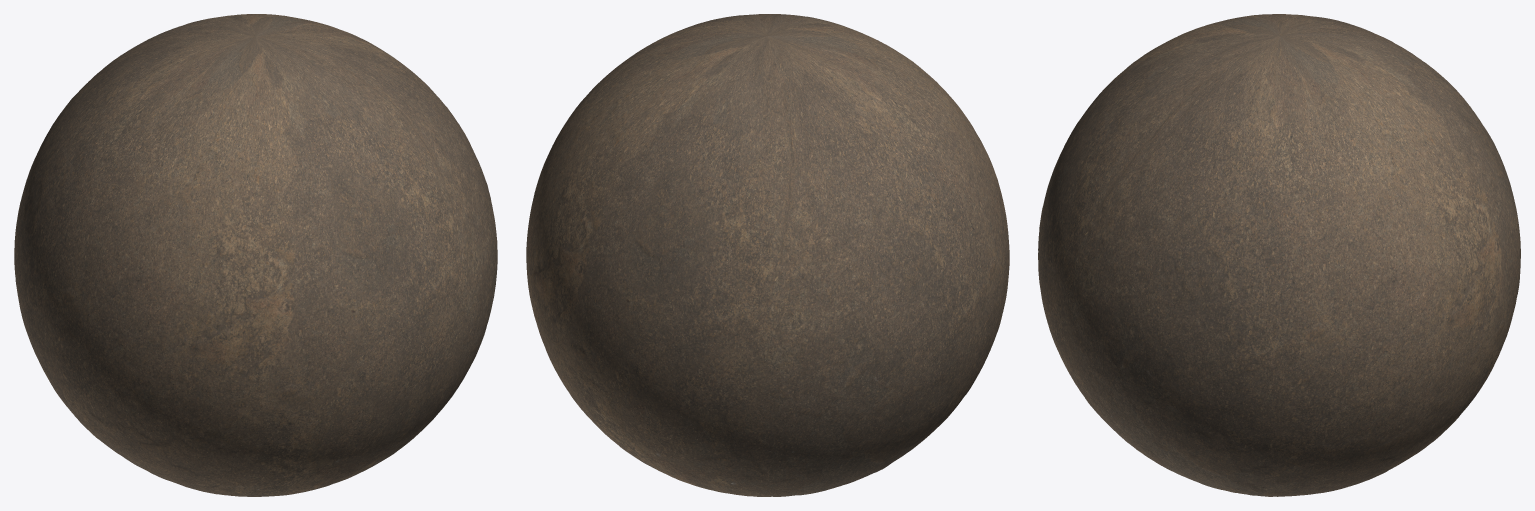
Rendered from rock_surface_2k.gltf.
The picture shows the model from 3 angles, left to right: view 1: azimuth 30°, elevation 25°; view 2: azimuth 150°, elevation 25°; view 3: azimuth 270°, elevation 25°; orthographic projection.
Visible parts, largest first — view 1: sphere_gltf; view 2: sphere_gltf; view 3: sphere_gltf.
Boxes of the visible parts, x1=… form: sphere_gltf: x1=14, y1=14, x2=497, y2=496; sphere_gltf: x1=526, y1=14, x2=1009, y2=496; sphere_gltf: x1=1038, y1=14, x2=1520, y2=496.
Bounding box in the file's own units: 2 × 2 × 2.
Materials: 1 (1 with a texture image).
